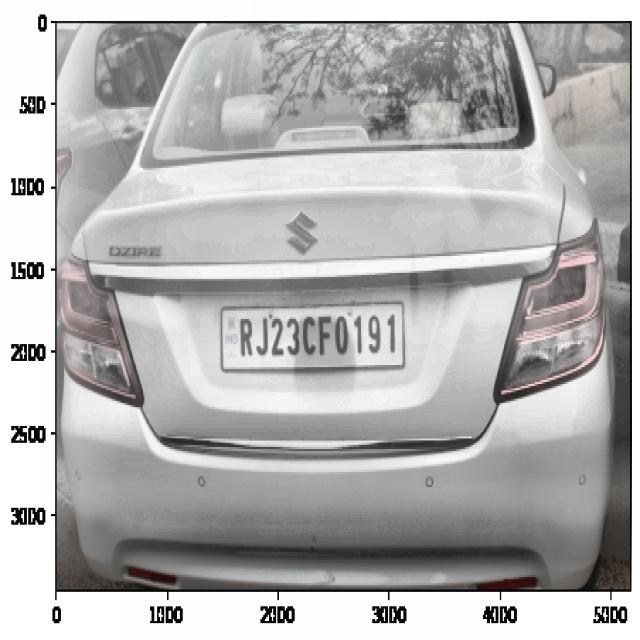license_plate: (227, 310, 406, 372)
